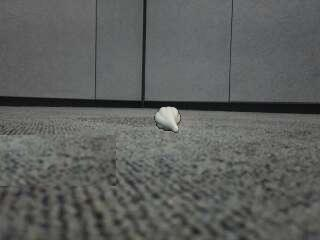Garlic: (154, 106, 182, 134)
